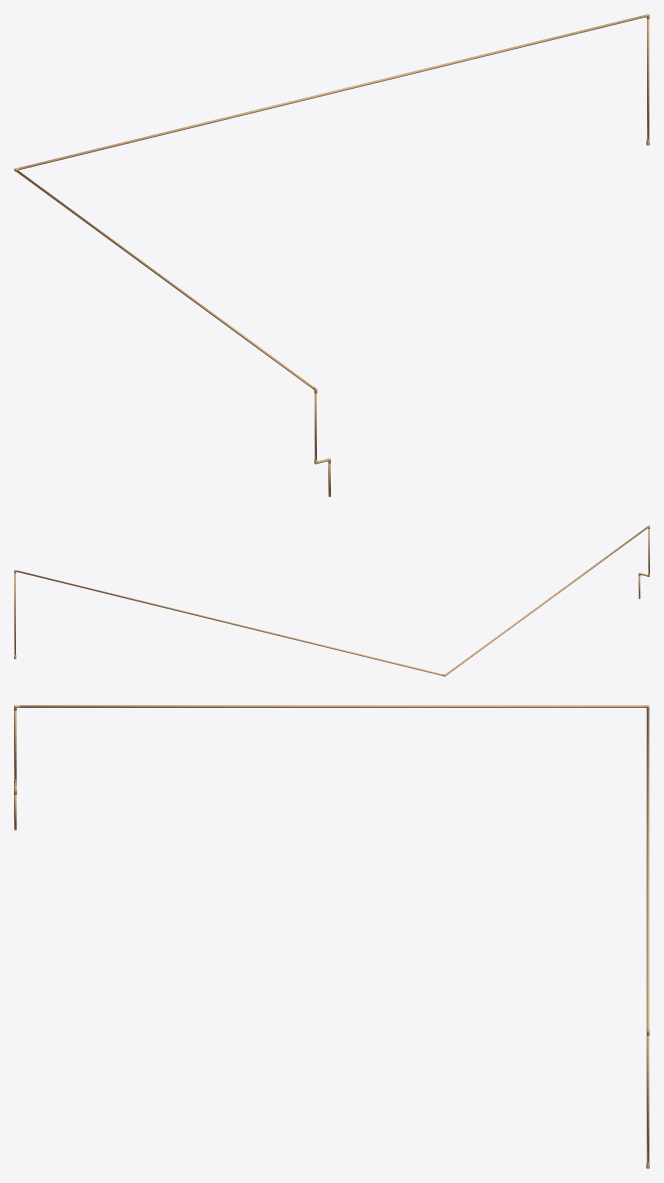
The model's file is slab_pipes_supply__water-well_and_softener-yes_and_flowsmart-no_and_plumbing-copper.glb.
The picture shows the model from 3 angles, top to bottom: view 1: azimuth 30°, elevation 25°; view 2: azimuth 150°, elevation 25°; view 3: azimuth 270°, elevation 25°; orthographic projection. The views are drawn at different scales.
Visible parts, largest first — view 1: pipe_supply_well_to_softener__copper; view 2: pipe_supply_well_to_softener__copper; view 3: pipe_supply_well_to_softener__copper.
Part boxes in pixels (x1,y1,x2,y2): pipe_supply_well_to_softener__copper: [16, 15, 649, 496]; pipe_supply_well_to_softener__copper: [14, 526, 649, 675]; pipe_supply_well_to_softener__copper: [14, 705, 649, 1162].
Bounding box in the file's own units: 6.45 × 1.27 × 5.31.
